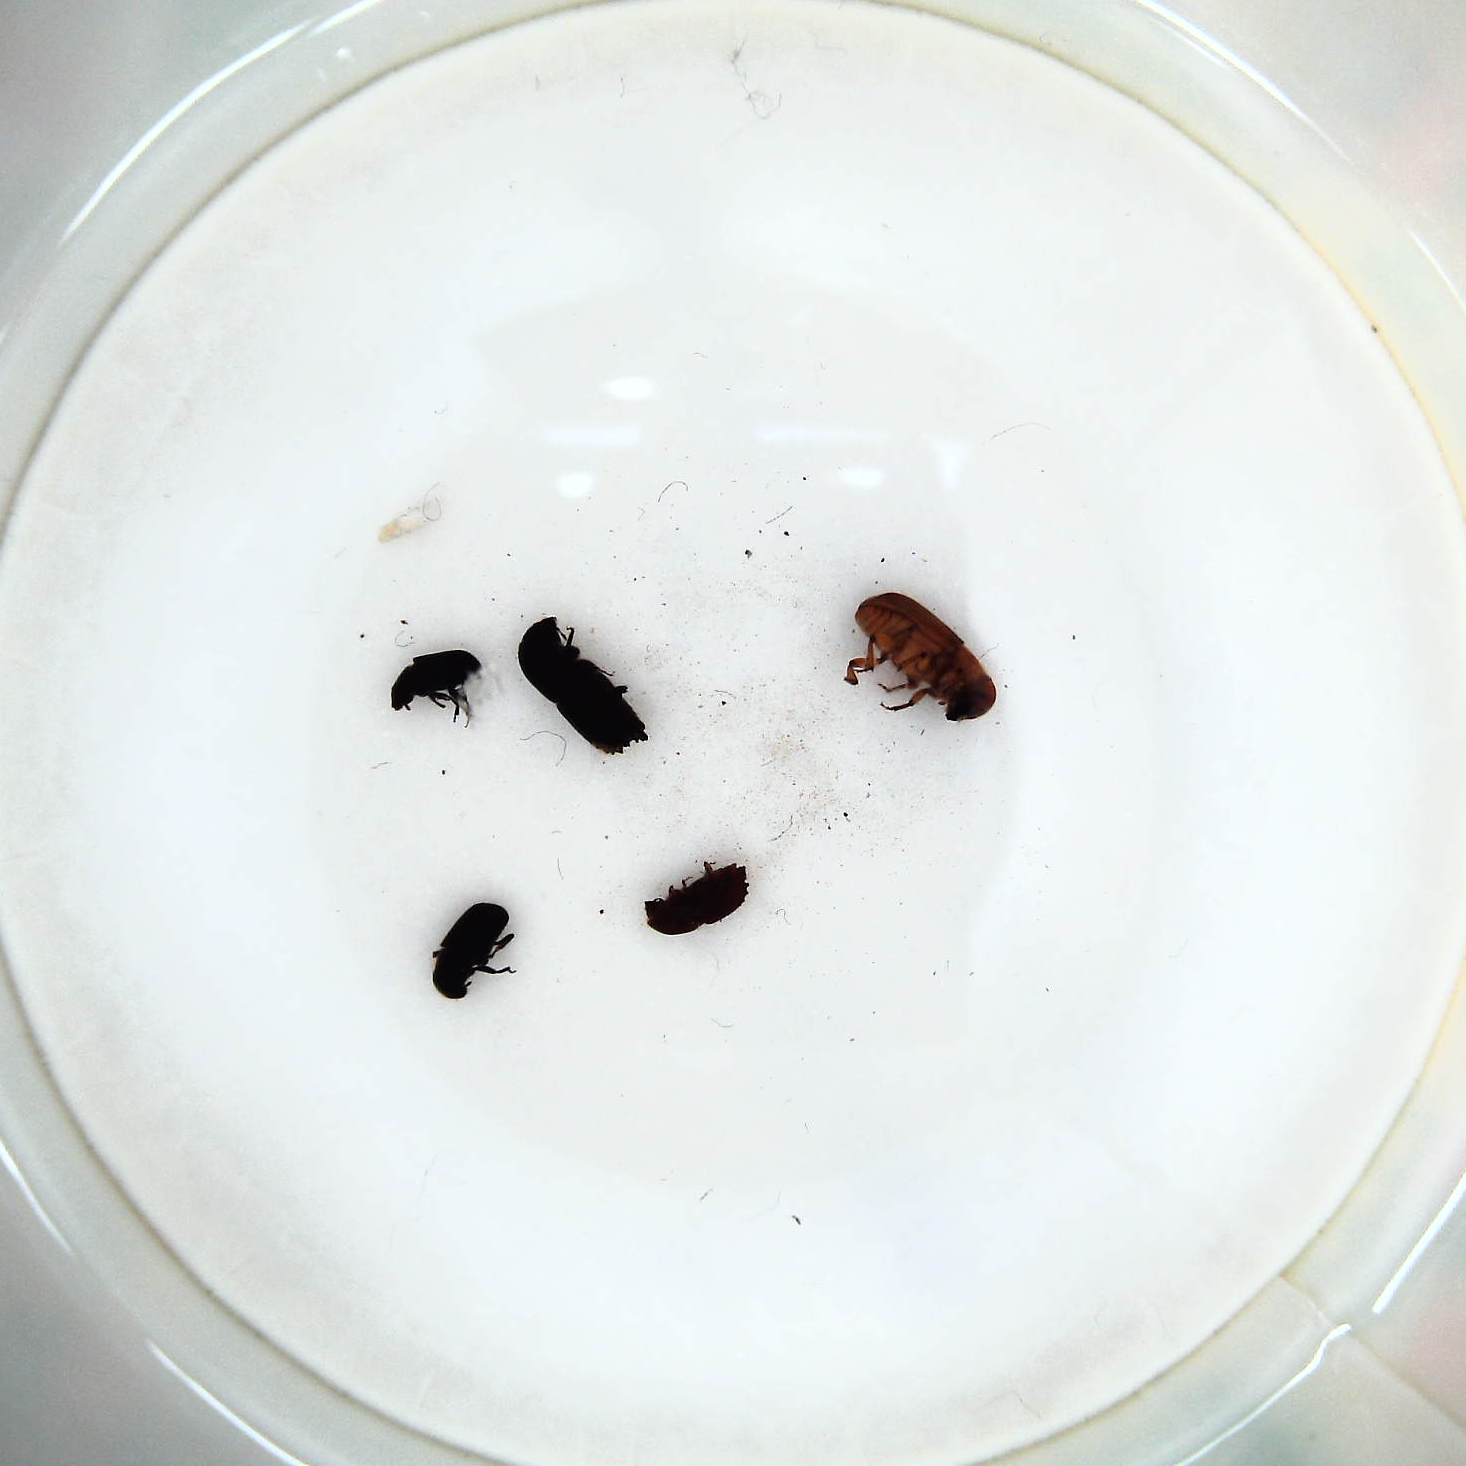Boerner: (516, 614, 646, 754)
Leconte: (836, 591, 1004, 730)
armandi: (430, 903, 521, 1003)
coleoptera: (387, 644, 485, 732)
linnaeus: (640, 859, 753, 942)
